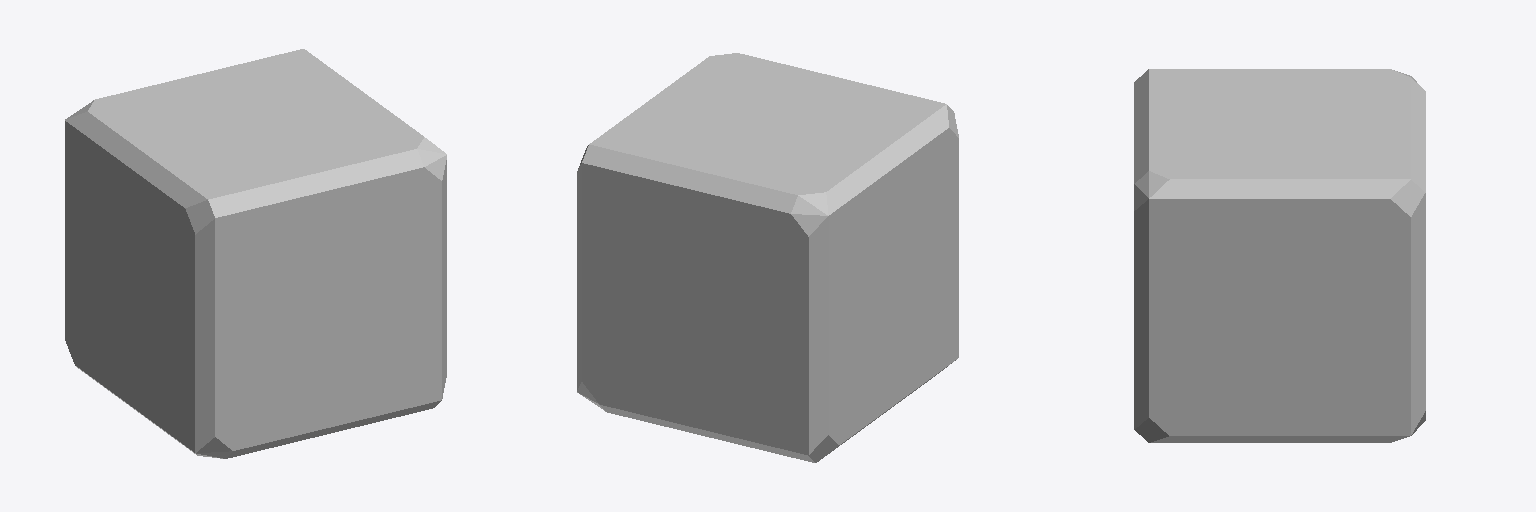
Rendered from tetris.obj.
The picture shows the model from 3 angles: view 1: azimuth 30°, elevation 25°; view 2: azimuth 150°, elevation 25°; view 3: azimuth 270°, elevation 25°; orthographic projection.
Parts seen in each view (by area): view 1: Cube_Cube.001; view 2: Cube_Cube.001; view 3: Cube_Cube.001.
Boxes of the visible parts, box(x1,y1,x2,y2) form: Cube_Cube.001: box(65, 49, 446, 458); Cube_Cube.001: box(577, 53, 958, 462); Cube_Cube.001: box(1134, 69, 1425, 442).
Size of the model in its own units: 2 by 2 by 2.